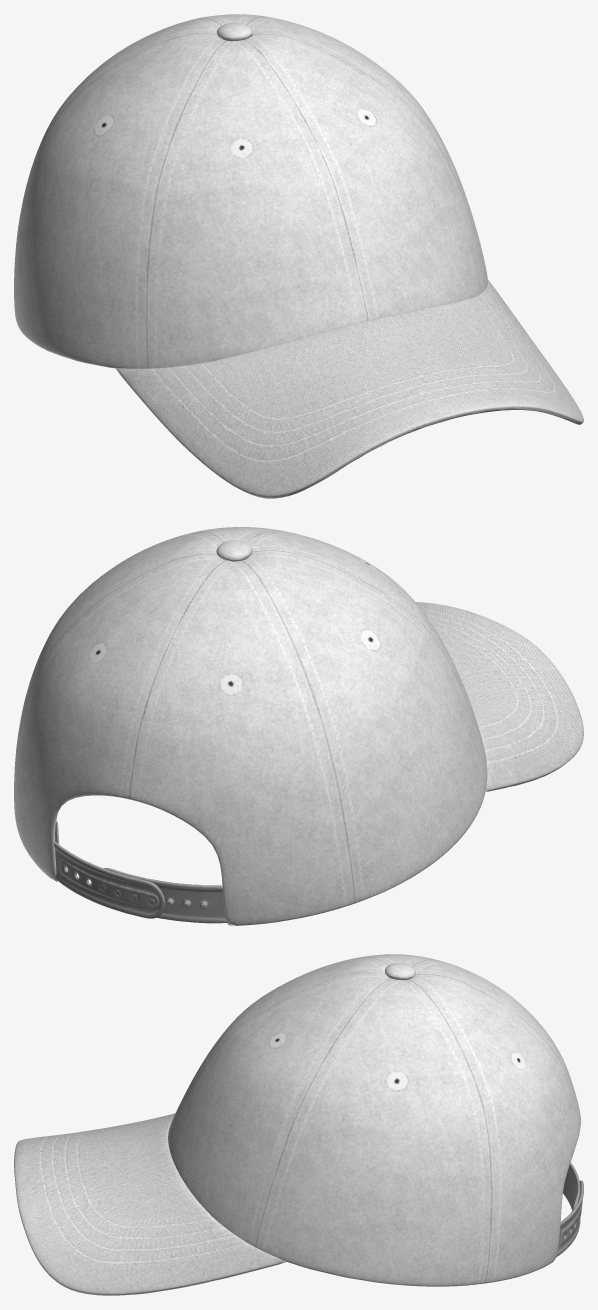
File: cap.glb
3 views of the same model, one above another, from view 1: azimuth 30°, elevation 25°; view 2: azimuth 150°, elevation 25°; view 3: azimuth 270°, elevation 25° (orthographic). The views are drawn at different scales.
Visible parts, largest first — view 1: garment; view 2: garment; view 3: garment.
Boxes of the visible parts, bbox=[...] form: garment: bbox=[14, 14, 583, 498]; garment: bbox=[14, 527, 583, 925]; garment: bbox=[14, 954, 583, 1295].
Bounding box in the file's own units: 0.1943 × 0.1354 × 0.27.
Materials: 3 (1 with a texture image).
